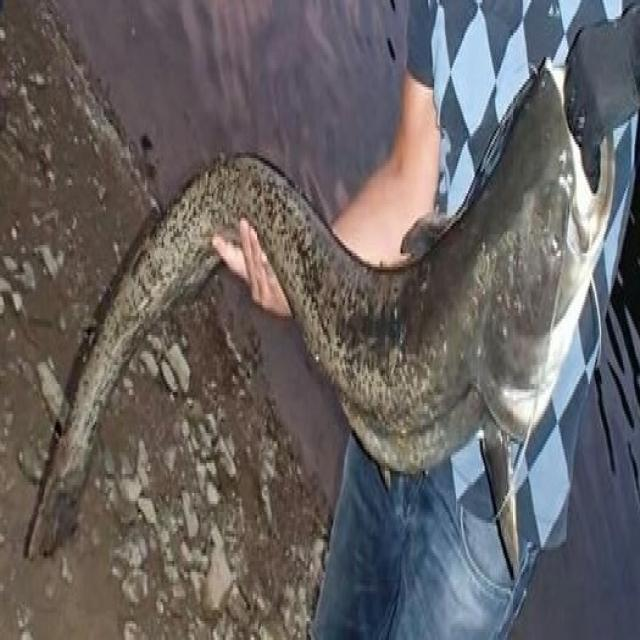Catfish: (13, 63, 624, 622)
